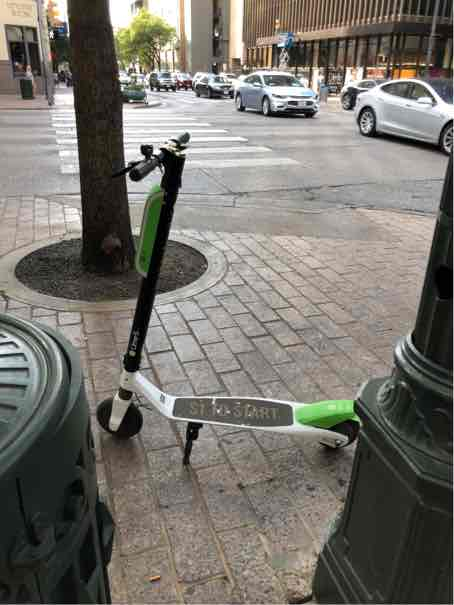scooter: (103, 121, 368, 460)
